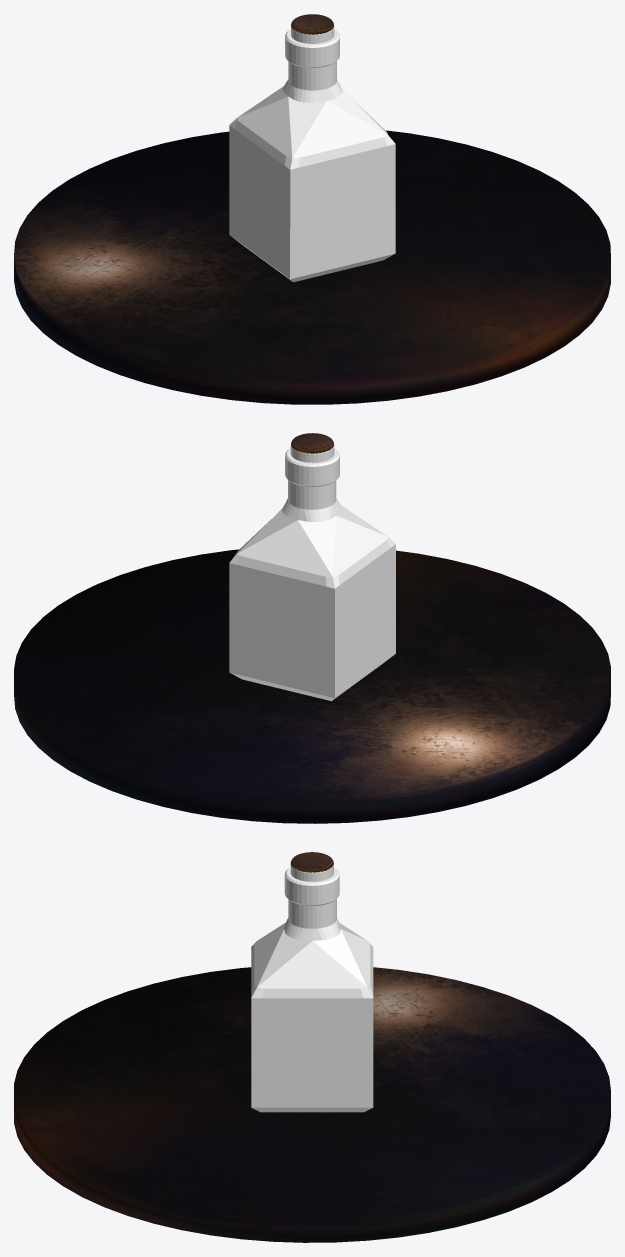
Rendered from potion-baked.glb.
The picture shows the model from 3 angles, top to bottom: view 1: azimuth 30°, elevation 25°; view 2: azimuth 150°, elevation 25°; view 3: azimuth 270°, elevation 25°; orthographic projection.
Parts seen in each view (by area): view 1: baked-0, Cube; view 2: baked-0, Cube; view 3: baked-0, Cube.
Part boxes in pixels (x1=…): baked-0: x1=14, y1=14, x2=610, y2=404; Cube: x1=229, y1=25, x2=395, y2=282; baked-0: x1=14, y1=433, x2=610, y2=823; Cube: x1=229, y1=444, x2=395, y2=701; baked-0: x1=14, y1=852, x2=610, y2=1242; Cube: x1=251, y1=864, x2=373, y2=1112.
Size of the model in its own units: 9.8 by 4.66 by 9.79.
Materials: 2 (1 with a texture image).
